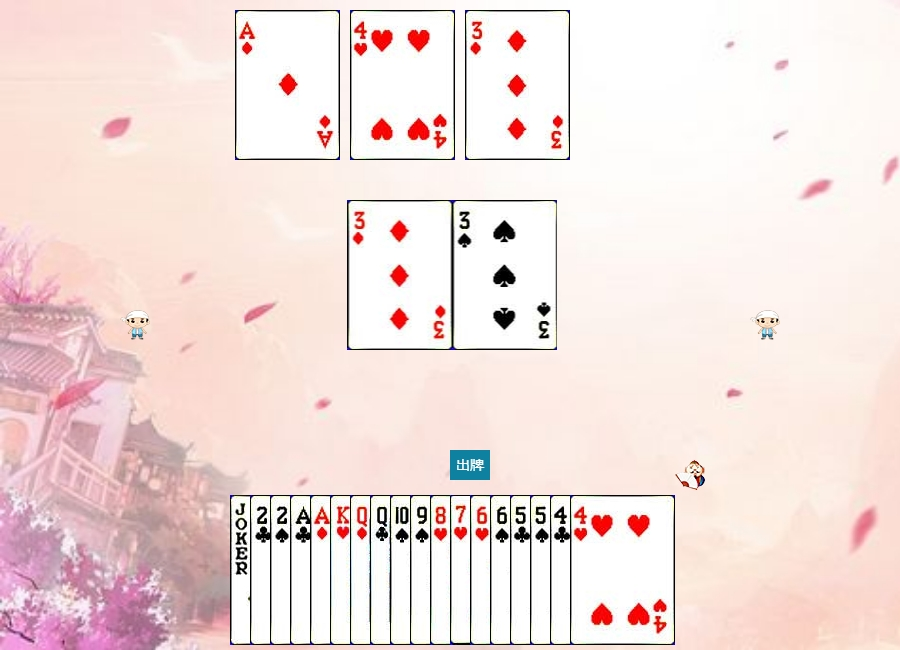10~4: (390, 495, 495, 645)
12~1: (350, 495, 455, 645)
12~2: (370, 495, 475, 645)
13~3: (330, 495, 435, 645)
14~1: (235, 10, 340, 160), (310, 495, 415, 645)
14~2: (290, 495, 395, 645)
15~2: (250, 495, 355, 645)
15~4: (270, 495, 375, 645)
17~3: (230, 495, 335, 645)
3~1: (465, 10, 570, 160), (348, 200, 453, 350)
3~4: (453, 200, 558, 350)
4~2: (550, 495, 655, 645)
4~3: (350, 10, 455, 160), (570, 495, 675, 645)
5~2: (510, 495, 615, 645)
5~4: (530, 495, 635, 645)
6~3: (470, 495, 575, 645)
6~4: (490, 495, 595, 645)
7~3: (450, 495, 555, 645)
8~3: (430, 495, 535, 645)
9~4: (410, 495, 515, 645)
